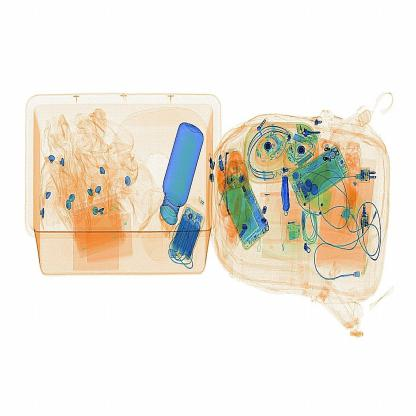knife: (271, 174, 299, 218)
